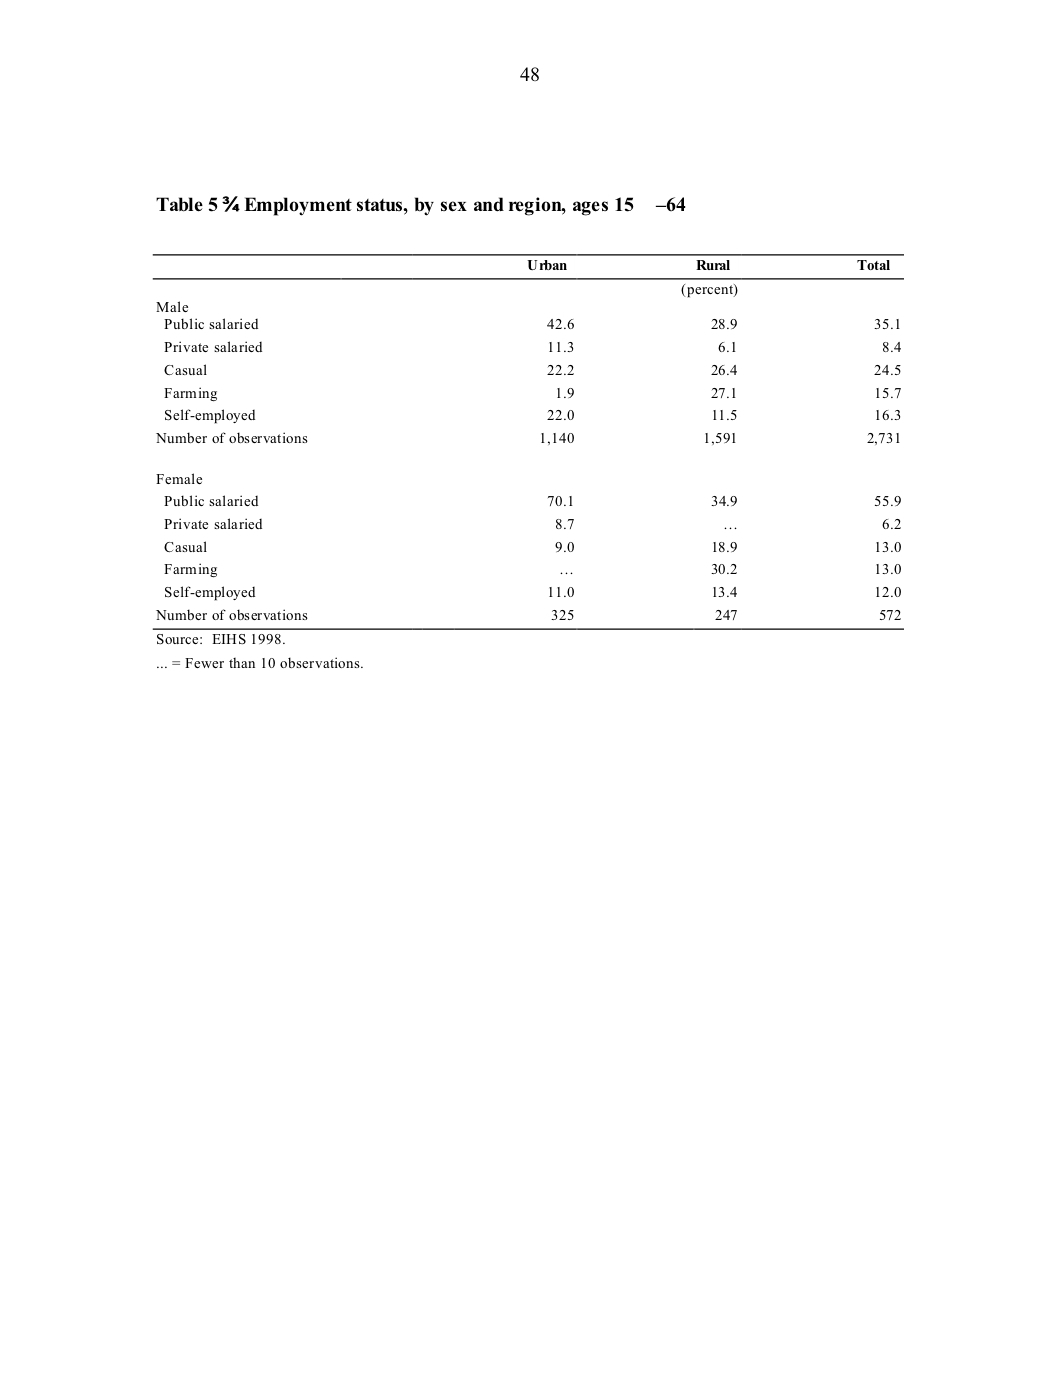Table: (152, 254, 903, 629)
